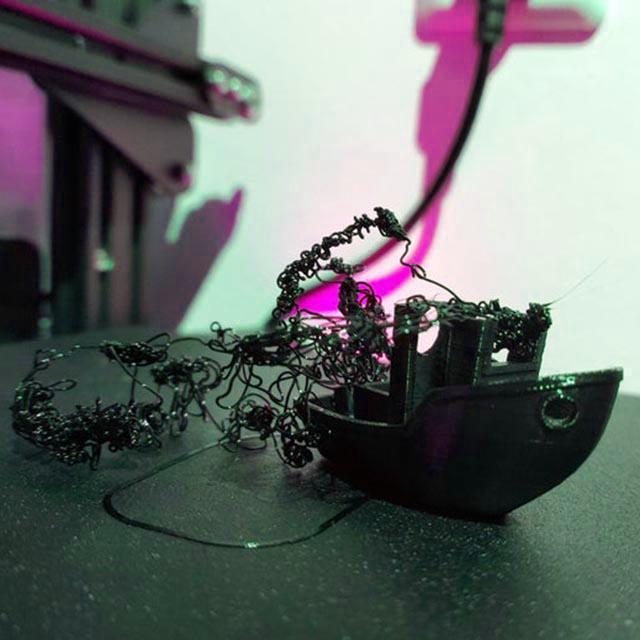spaghetti: (9, 206, 444, 473), (449, 298, 554, 363)
